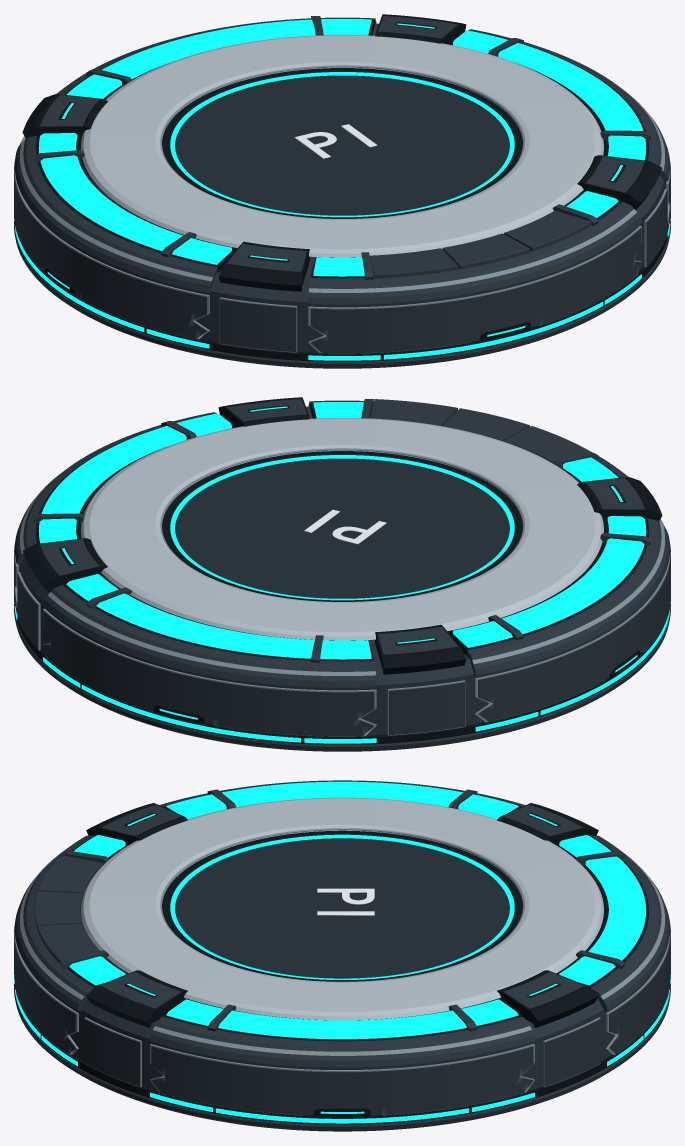
File: Blocker.fbx
The picture shows the model from 3 angles, top to bottom: view 1: azimuth 30°, elevation 25°; view 2: azimuth 150°, elevation 25°; view 3: azimuth 270°, elevation 25°; orthographic projection.
Visible parts, largest first — view 1: SM_Puck_Blocker_P1_HighDetail; view 2: SM_Puck_Blocker_P1_HighDetail; view 3: SM_Puck_Blocker_P1_HighDetail.
Boxes of the visible parts, bbox=[...] form: SM_Puck_Blocker_P1_HighDetail: bbox=[14, 14, 670, 368]; SM_Puck_Blocker_P1_HighDetail: bbox=[14, 397, 670, 751]; SM_Puck_Blocker_P1_HighDetail: bbox=[14, 780, 670, 1131].
Size of the model in its own units: 106 by 106 by 16.5.
